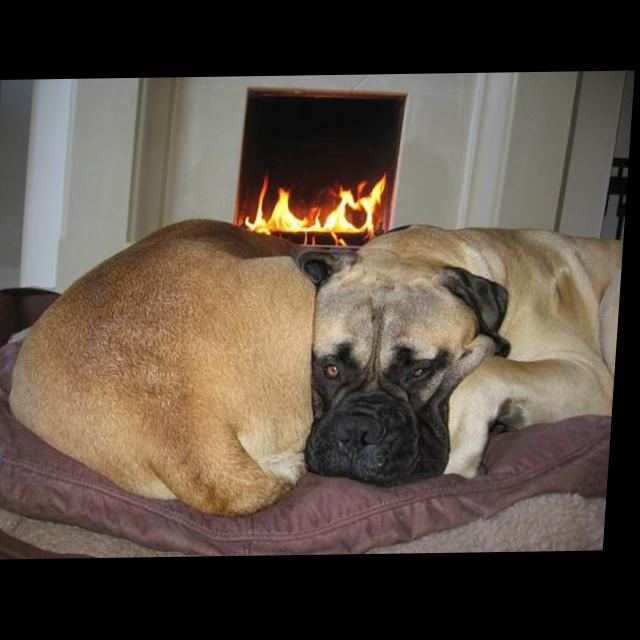bullmastiff: (292, 213, 629, 518), (11, 219, 326, 523)
